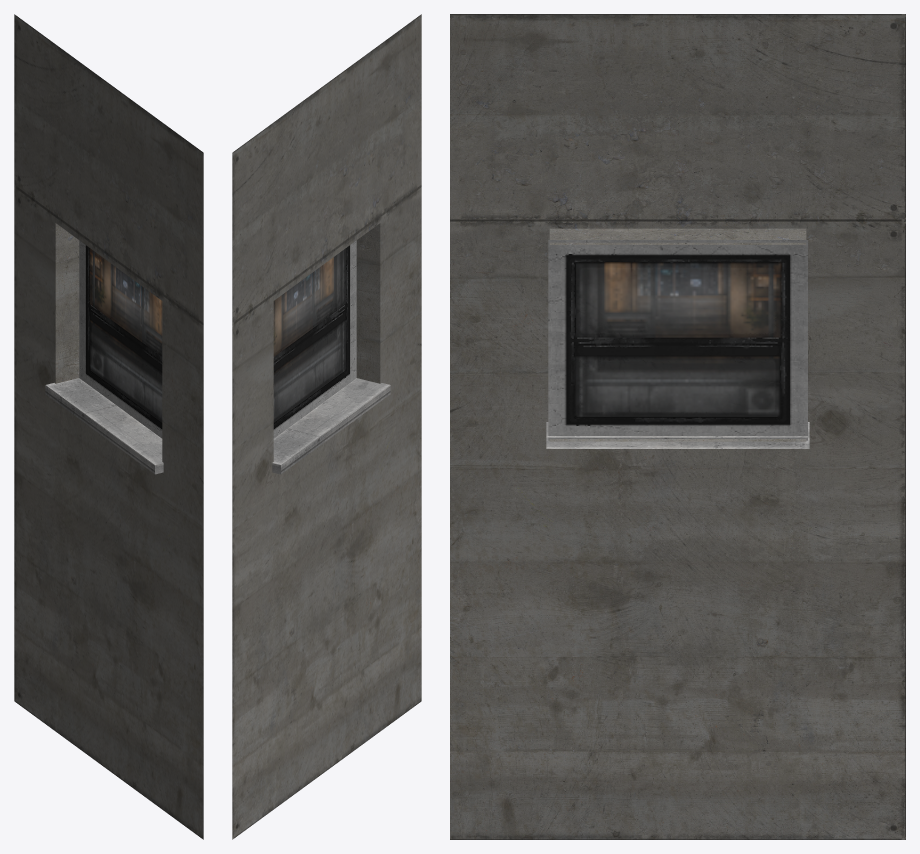
Rendered from CP_Windows_4x2m_01.fbx.
The picture shows the model from 3 angles, left to right: view 1: azimuth 30°, elevation 25°; view 2: azimuth 150°, elevation 25°; view 3: azimuth 270°, elevation 25°; orthographic projection. The views are drawn at different scales.
Visible parts, largest first — view 1: CP_Windows_4x2m_01; view 2: CP_Windows_4x2m_01; view 3: CP_Windows_4x2m_01.
Part boxes in pixels (left/top/right/bottom): CP_Windows_4x2m_01: left=14, top=14, right=203, bottom=839; CP_Windows_4x2m_01: left=232, top=14, right=421, bottom=839; CP_Windows_4x2m_01: left=450, top=14, right=905, bottom=839.
Size of the model in its own units: 22.38 by 400 by 200.
